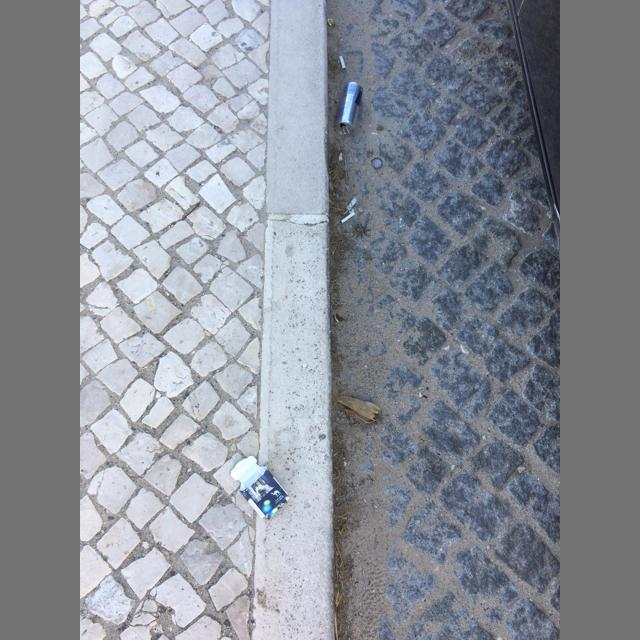litter: (230, 456, 290, 520), (334, 82, 364, 137), (340, 212, 355, 224), (333, 312, 344, 323), (371, 158, 382, 168), (339, 56, 346, 69), (327, 18, 335, 27), (342, 125, 349, 135)
